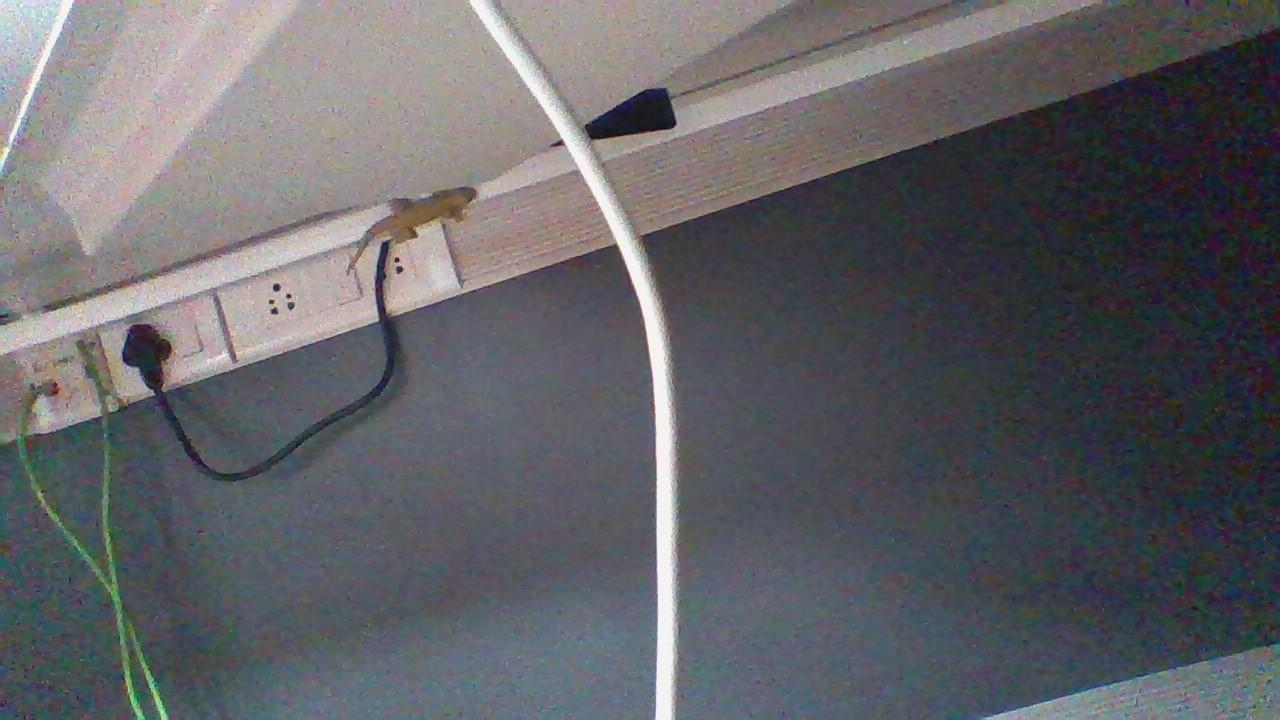lizard: (329, 176, 480, 261)
